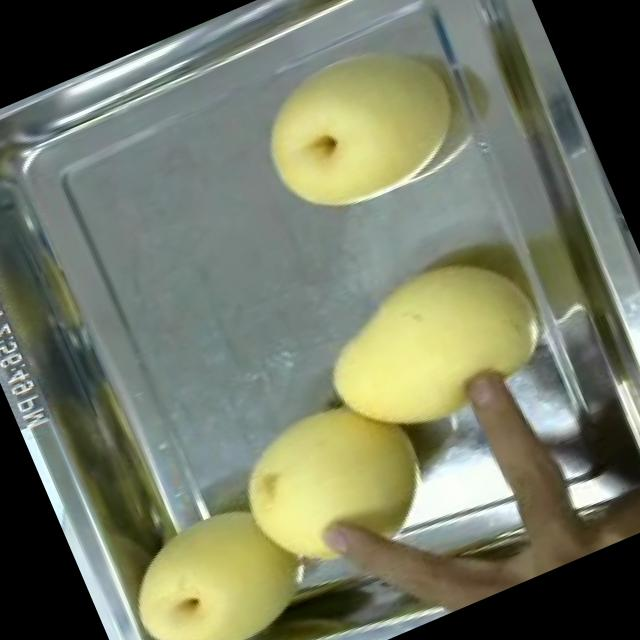Fruit: (293, 222, 570, 467), (230, 8, 484, 242), (208, 367, 456, 604), (94, 473, 340, 640)
